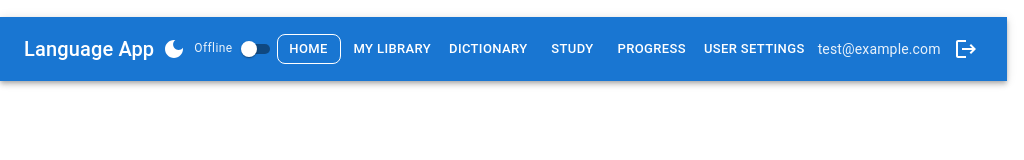
Test case: Navbar › toggles theme when theme button is clicked
Step 1. Click the button named "switch to dark mode" → coordinates (174, 49), box top-left (154, 29), bottom-right (194, 69)
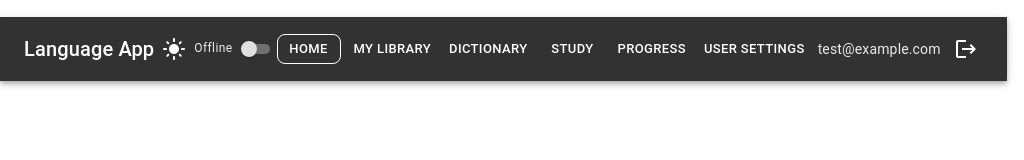
Now the button named "switch to light mode" is shown, box top-left (154, 29), bottom-right (194, 69)
